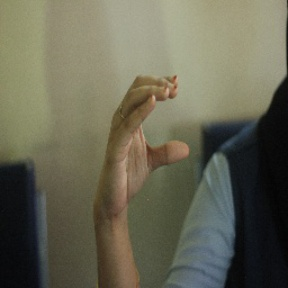C: (103, 69, 197, 183)
